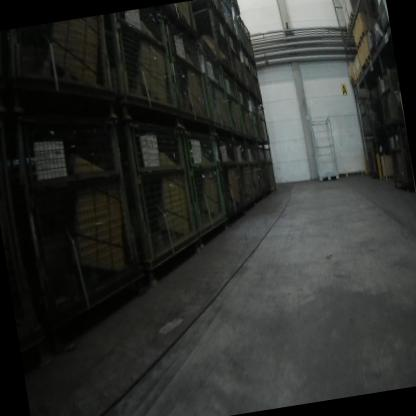pallet: (347, 6, 360, 23), (379, 18, 390, 34), (375, 32, 385, 46), (370, 43, 379, 56), (346, 19, 354, 32)
stillage: (6, 83, 153, 332), (120, 106, 204, 273), (0, 15, 120, 109), (105, 5, 181, 121), (175, 115, 230, 245), (163, 9, 212, 120), (209, 126, 243, 222), (191, 3, 233, 80), (199, 48, 233, 142), (229, 135, 257, 220), (383, 122, 415, 192), (371, 62, 404, 124), (219, 61, 244, 141), (158, 1, 201, 40), (356, 91, 385, 144), (241, 139, 265, 203), (234, 76, 255, 146), (238, 11, 264, 67), (245, 85, 266, 149), (251, 136, 271, 199), (226, 29, 246, 92), (363, 135, 389, 181), (261, 143, 280, 197), (229, 0, 249, 51), (236, 48, 255, 98), (255, 94, 273, 146), (249, 62, 266, 110), (220, 0, 234, 35)
